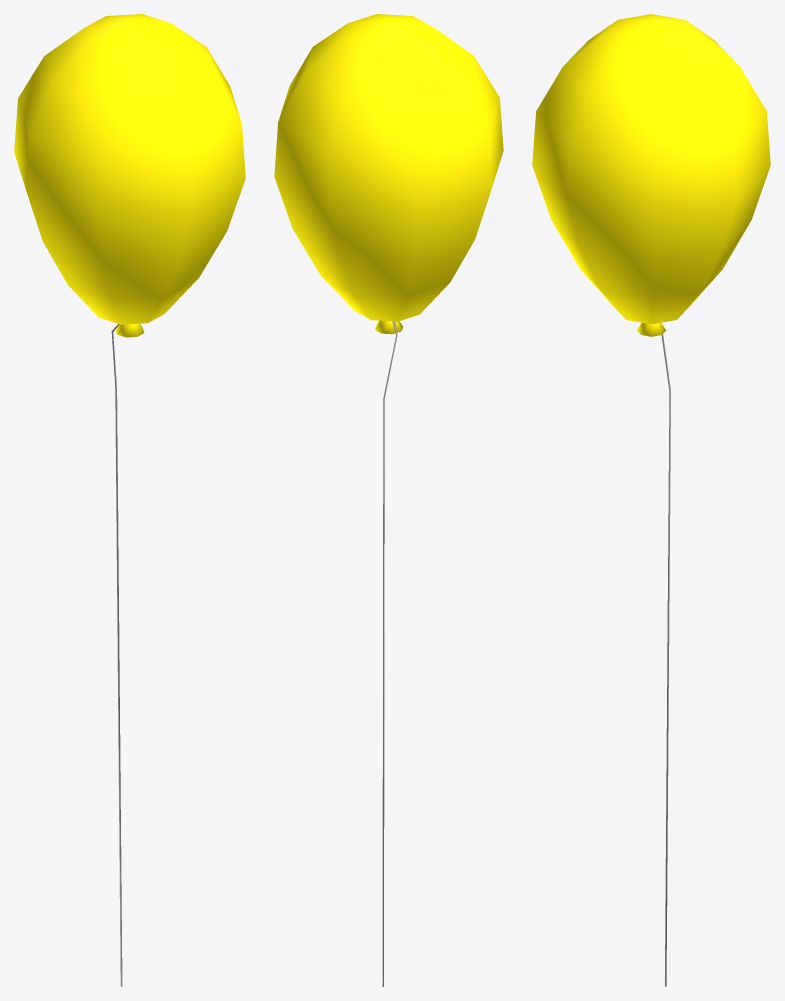
File: BalloonYellow.glb
3 views of the same model, side by side, from view 1: azimuth 30°, elevation 25°; view 2: azimuth 150°, elevation 25°; view 3: azimuth 270°, elevation 25° (orthographic).
Visible parts, largest first — view 1: BalloonYellow; view 2: BalloonYellow; view 3: BalloonYellow.
Boxes of the visible parts, <box> form: BalloonYellow: <box>14,14,245,986</box>; BalloonYellow: <box>274,14,503,986</box>; BalloonYellow: <box>532,14,770,986</box>.
Bounding box in the file's own units: 0.5007 × 2.23 × 0.5007.
Materials: 1 (1 with a texture image).
